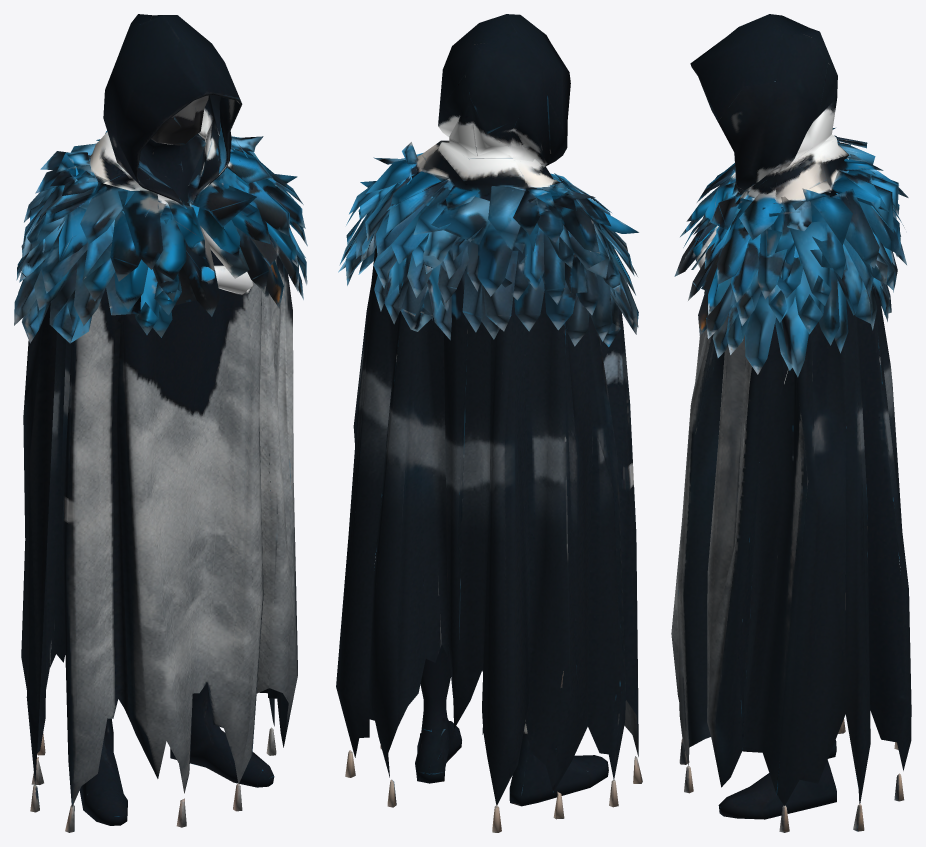
File: magpies-hoard-cloak_refine.glb
The picture shows the model from 3 angles, left to right: view 1: azimuth 30°, elevation 25°; view 2: azimuth 150°, elevation 25°; view 3: azimuth 270°, elevation 25°; orthographic projection. The views are drawn at different scales.
Bounding box in the file's own units: 0.3867 × 0.9526 × 0.2725.
Materials: 1 (1 with a texture image).
